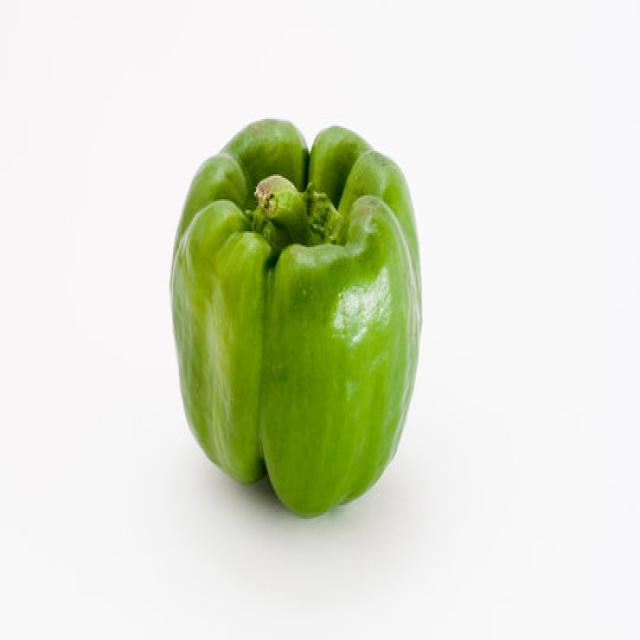Bell Pepper: (168, 115, 423, 518)
